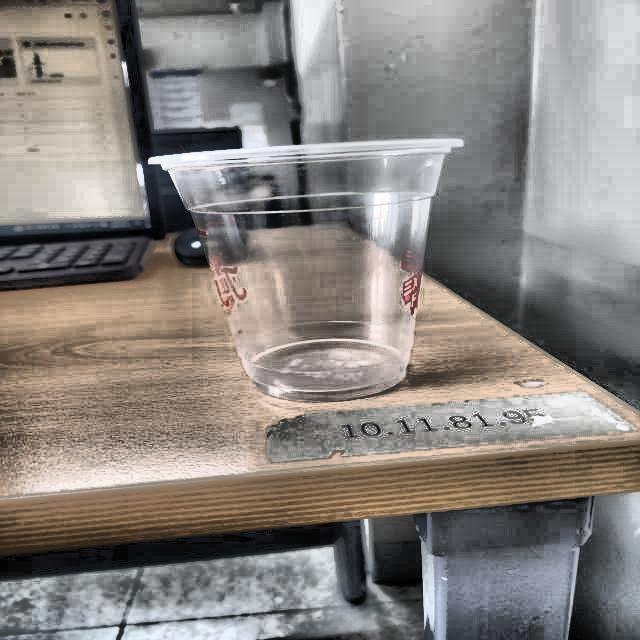plastic cup: (145, 136, 466, 402)
